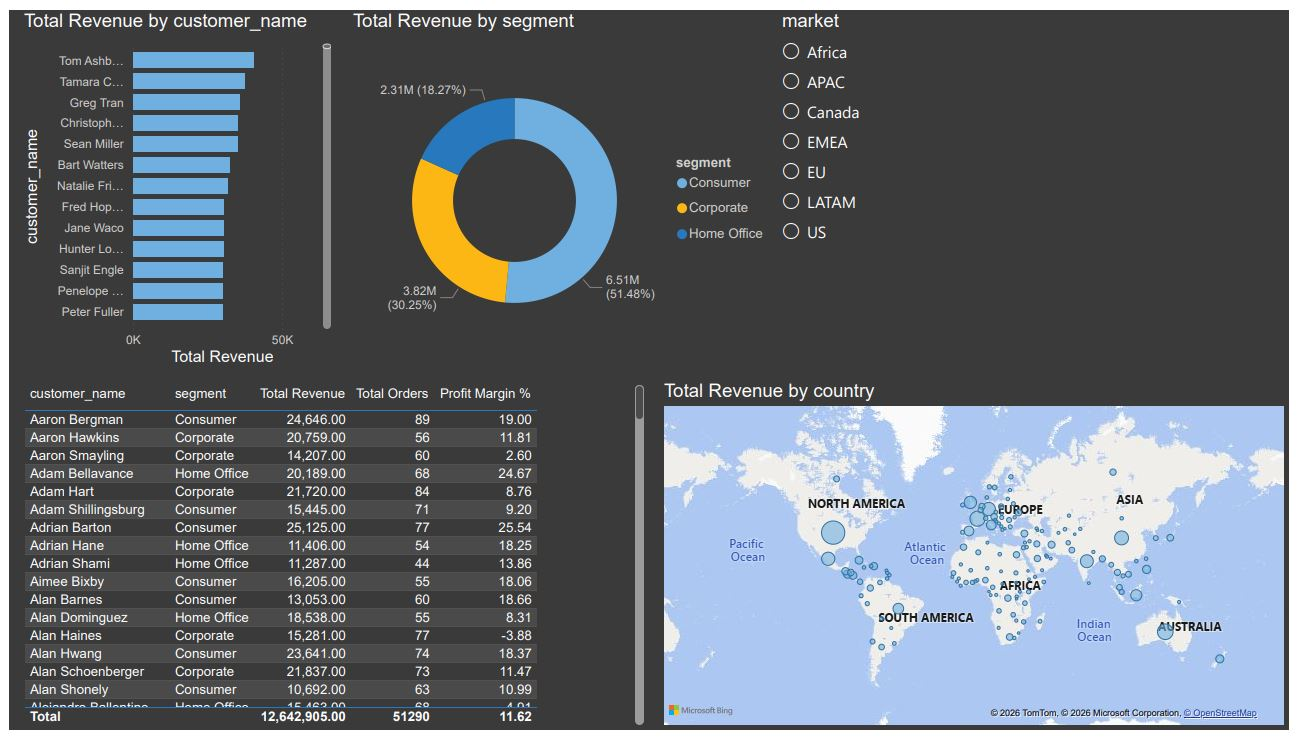

This screenshot's page, from the dashboard's own definition file:
{"tool":"powerbi","page":{"name":"Customer Analytics","canvas":[1280,720],"ordinal":1},"visuals":[{"type":"barChart","fields":{"Category":["marts dim_customers.customer_name"],"Y":["marts fact_sales.Total Revenue"]},"box":[10,0,316.7,360],"z":0},{"type":"donutChart","fields":{"Category":["marts dim_customers.segment"],"Y":["marts fact_sales.Total Revenue"]},"box":[338.9,0,428.9,360],"z":1000},{"type":"tableEx","fields":{"Values":["marts dim_customers.customer_name","marts dim_customers.segment","marts fact_sales.Total Revenue","marts fact_sales.Total Orders","marts fact_sales.Profit Margin %"]},"box":[10,370,630,350],"z":2000},{"type":"map","fields":{"Category":["marts dim_geography.country"],"Size":["marts fact_sales.Total Revenue"]},"box":[650,370,630,350],"z":3000},{"type":"listSlicer","fields":{"Values":["marts dim_geography.market"]},"box":[768,0,512,360],"z":3001}]}

Visuals, with their boxes in screenshot pixels (x1, y1, x2, y2), scaled from the page's 1280x720 canvas onto the 1297x743 screenshot:
barChart - marts dim_customers.customer_name x marts fact_sales.Total Revenue: x1=10 y1=0 x2=331 y2=372
donutChart - marts dim_customers.segment x marts fact_sales.Total Revenue: x1=343 y1=0 x2=778 y2=372
tableEx - marts dim_customers.customer_name x marts dim_customers.segment: x1=10 y1=382 x2=648 y2=742
map - marts dim_geography.country x marts fact_sales.Total Revenue: x1=659 y1=382 x2=1296 y2=742
listSlicer - marts dim_geography.market: x1=778 y1=0 x2=1296 y2=372
